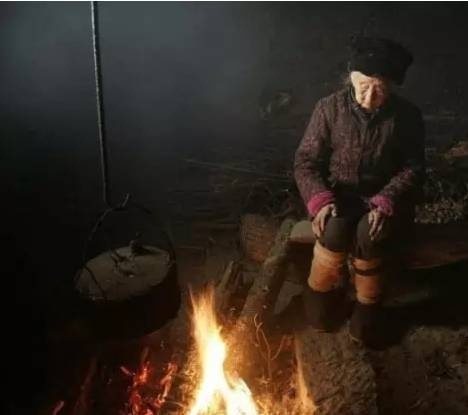fire: (185, 283, 258, 415)
